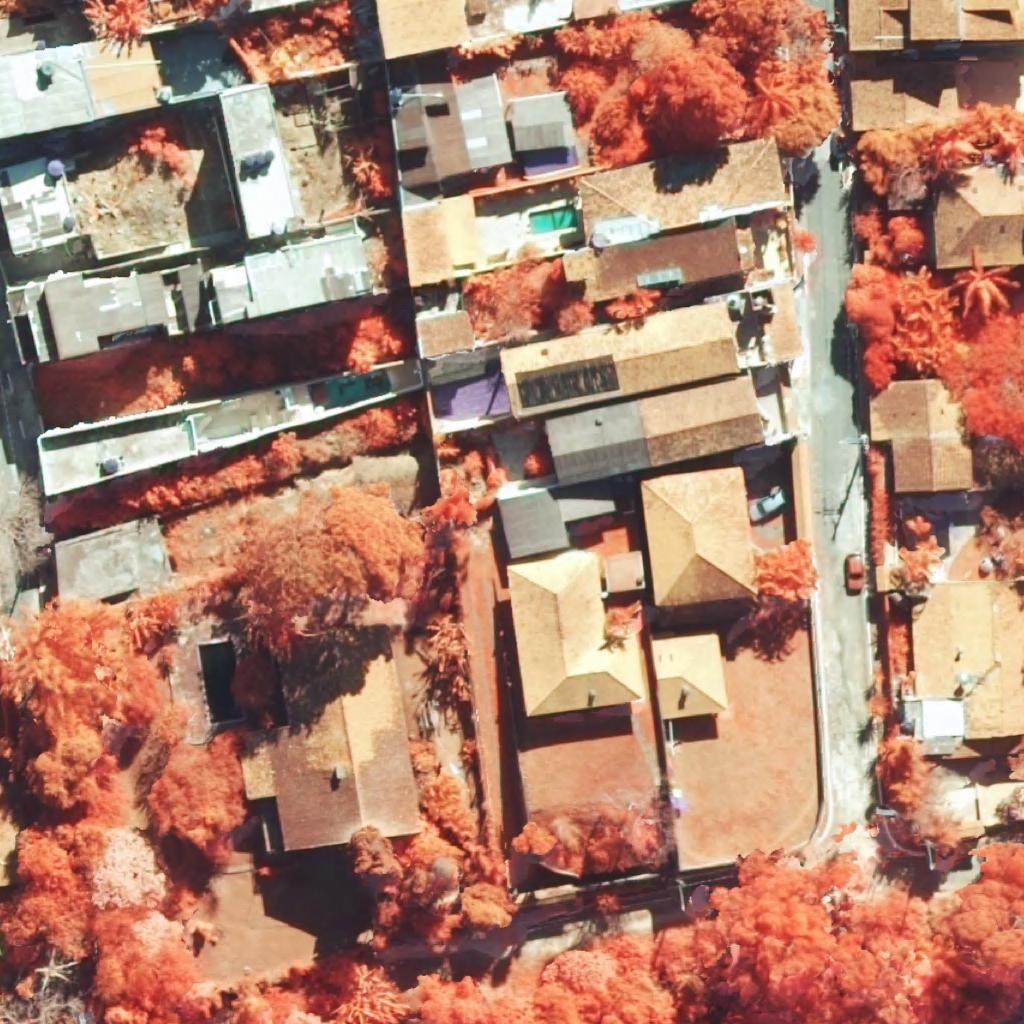pool: (529, 204, 578, 235)
